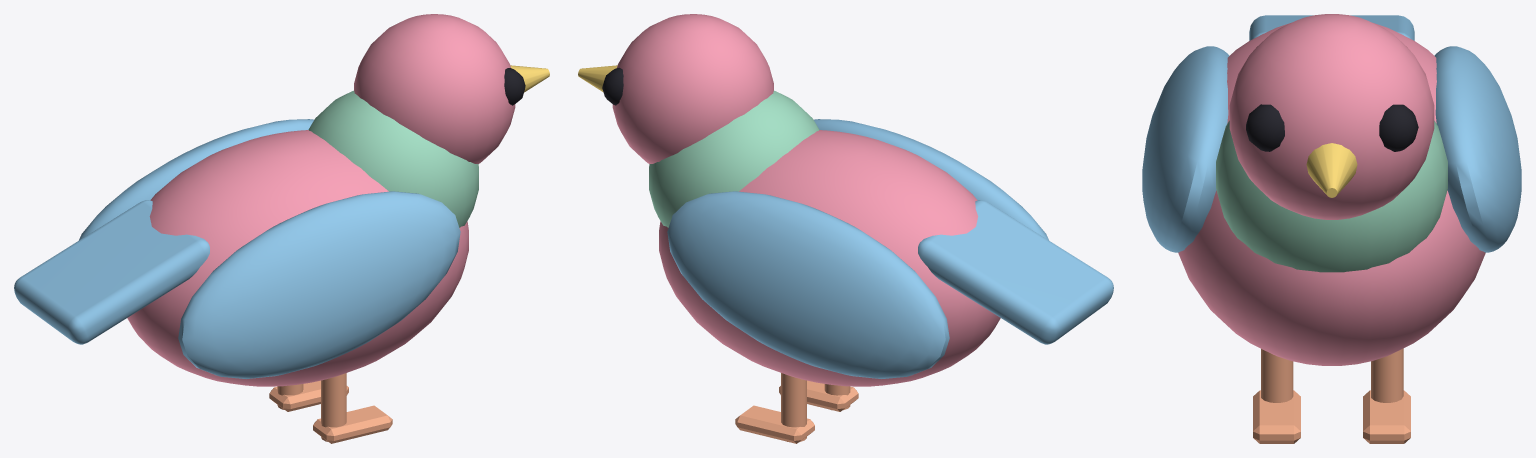
Rendered from rainbow_pigeon.glb.
3 renders of one model, left to right at view 1: azimuth 30°, elevation 25°; view 2: azimuth 150°, elevation 25°; view 3: azimuth 270°, elevation 25°, orthographic. The views are drawn at different scales.
Visible parts, largest first — view 1: rainbow_pigeon; view 2: rainbow_pigeon; view 3: rainbow_pigeon.
Boxes of the visible parts, x1,y1,x2,y2 form: rainbow_pigeon: (14,14,549,443); rainbow_pigeon: (578,14,1113,443); rainbow_pigeon: (1142,14,1521,443).
Bounding box in the file's own units: 0.5369 × 0.375 × 0.2757.
Materials: 1 (1 with a texture image).
